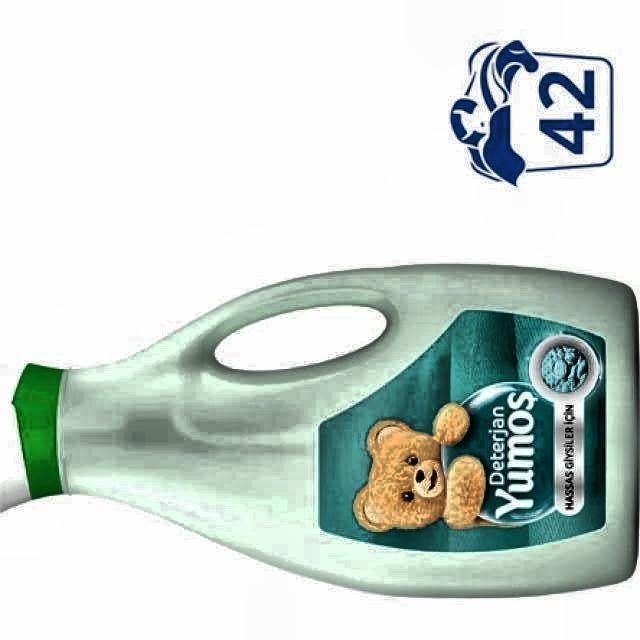plastic: (0, 265, 639, 595)
